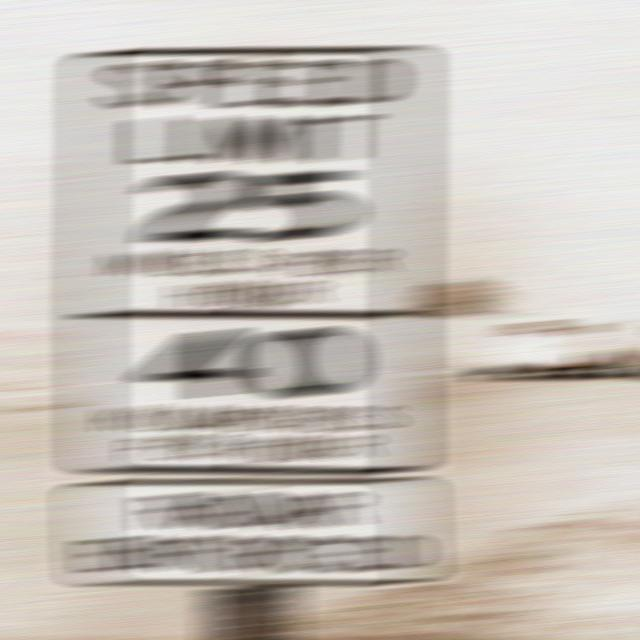speedLimit25: (76, 54, 422, 469)
